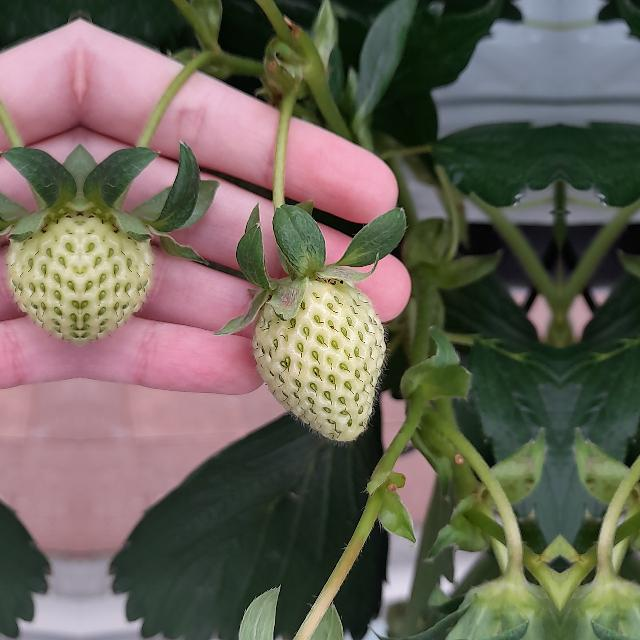Health_25: (252, 279, 386, 441), (80, 210, 158, 348), (2, 210, 80, 348)
